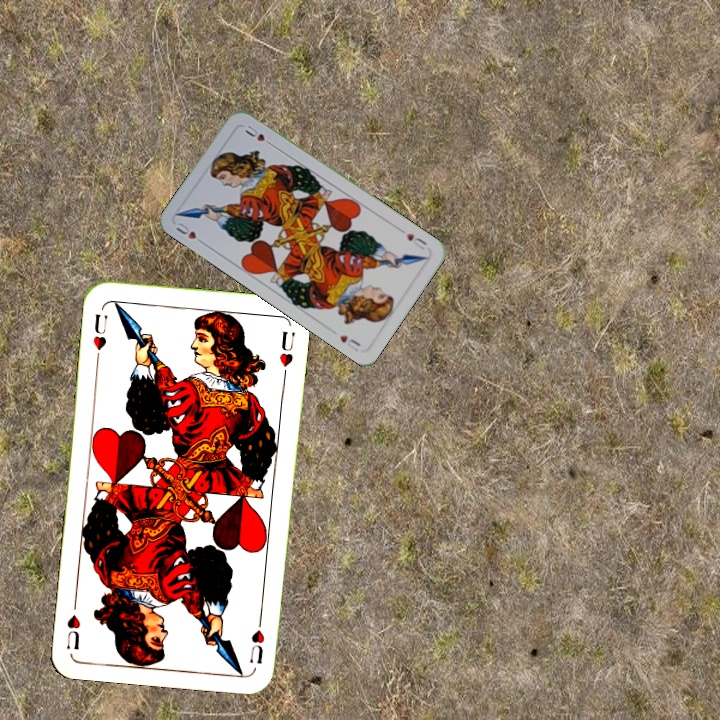HU: (246, 610, 267, 667), (89, 310, 110, 364), (171, 218, 208, 247), (402, 229, 430, 253)
